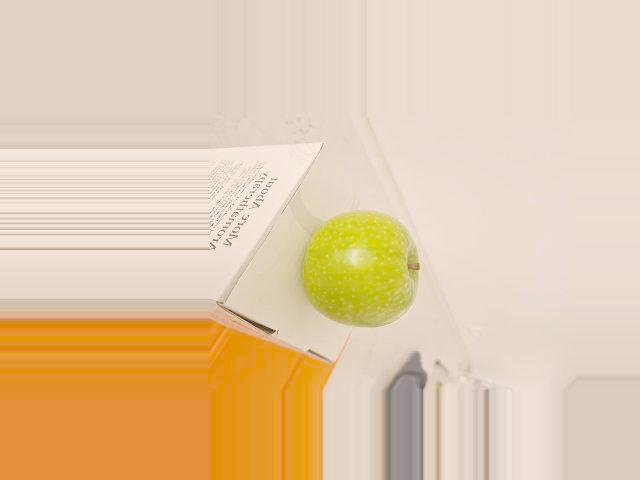apple: (304, 212, 417, 325)
